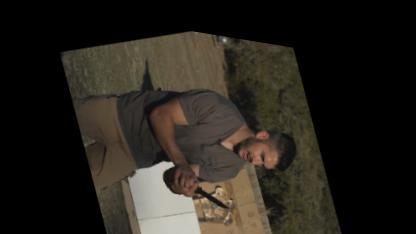knife: (168, 144, 238, 219)
